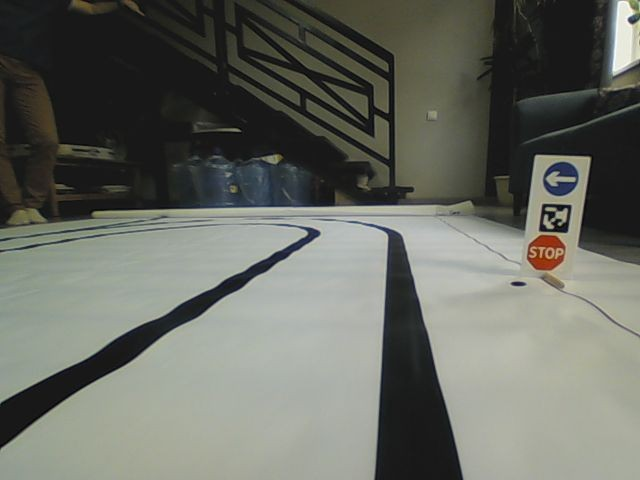Stop: (526, 233, 567, 272)
